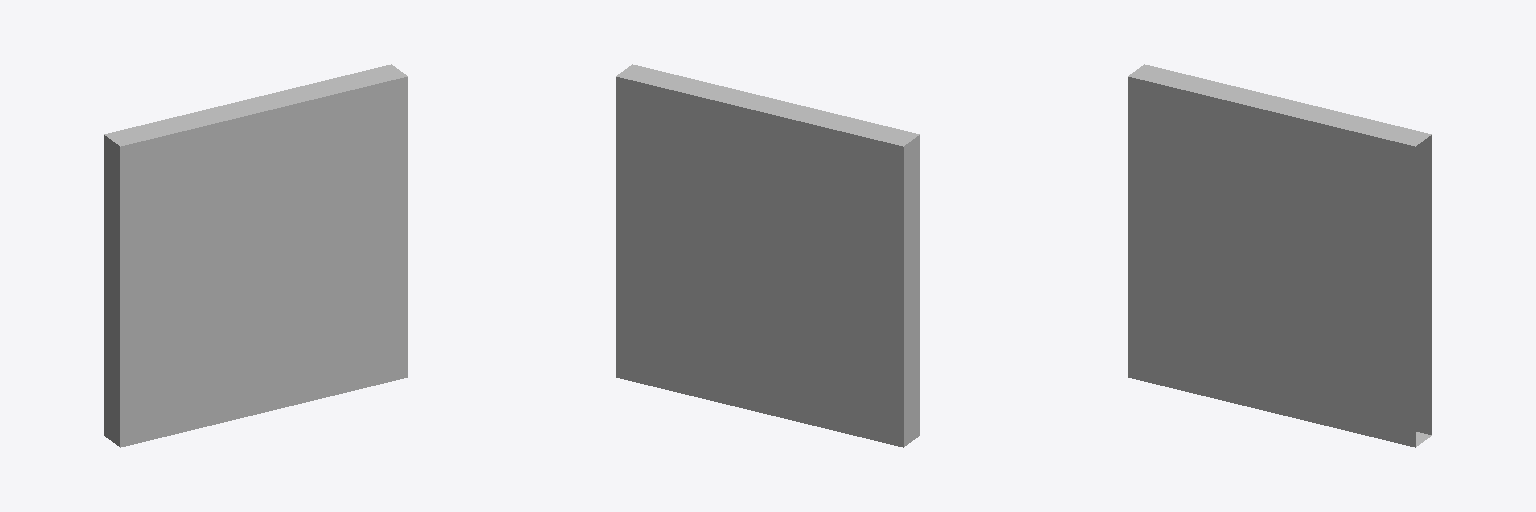
Rendered from tiles_wall.obj.
The picture shows the model from 3 angles: view 1: azimuth 30°, elevation 25°; view 2: azimuth 150°, elevation 25°; view 3: azimuth 330°, elevation 25°; orthographic projection.
Visible parts, largest first — view 1: Wall_Cube.016; view 2: Wall_Cube.016; view 3: Wall_Cube.016.
Part boxes in pixels (x1,y1,x2,y2): Wall_Cube.016: (104,64,407,447); Wall_Cube.016: (616,64,919,447); Wall_Cube.016: (1128,64,1431,447).
Size of the model in its own units: 2 by 2 by 0.2.